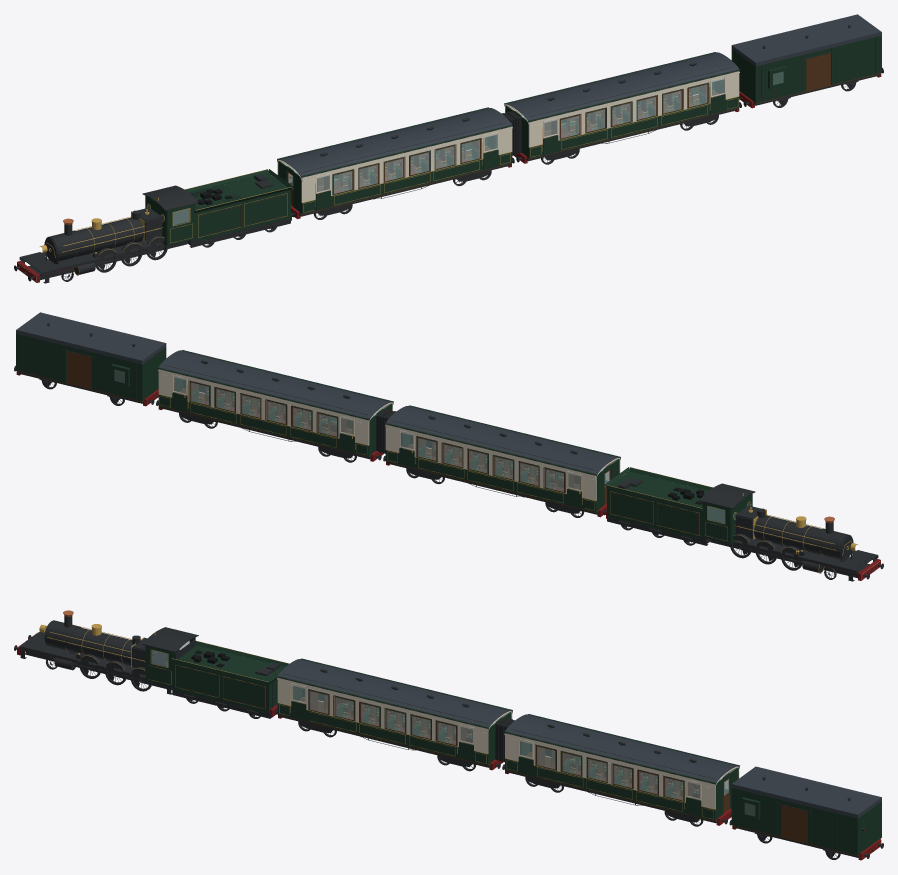
File: TrainSet.fbx
3 renders of one model, top to bottom at view 1: azimuth 30°, elevation 25°; view 2: azimuth 150°, elevation 25°; view 3: azimuth 330°, elevation 25°, orthographic.
Visible parts, largest first — view 1: C1_OuterArchedRoof, C2_OuterArchedRoof, Module_Luggage_Static_RailGreen, TenderBody, LuggageRoof, Module_Loco_Static_RailIron, Module_Coach1_Static_RailGreen, Module_Coach2_Static_RailGreen, Module_Loco_Beauty_RailIron, Module_Coach1_Static_RailIvory, Module_Coach2_Static_RailIvory, Module_Coach1_Static_RailGlass (+13 smaller); view 2: C1_OuterArchedRoof, C2_OuterArchedRoof, Module_Luggage_Static_RailGreen, TenderBody, LuggageRoof, Module_Loco_Static_RailIron, Module_Coach1_Static_RailGreen, Module_Coach2_Static_RailGreen, Module_Loco_Beauty_RailIron, Module_Coach1_Static_RailIvory, Module_Coach2_Static_RailIvory, Module_Coach1_Static_RailGlass (+13 smaller); view 3: Module_Luggage_Static_RailGreen, C2_OuterArchedRoof, C1_OuterArchedRoof, TenderBody, LuggageRoof, Module_Coach2_Static_RailGreen, Module_Loco_Static_RailIron, Module_Coach1_Static_RailGreen, Module_Loco_Beauty_RailIron, Module_Coach2_Static_RailIvory, Module_Coach1_Static_RailIvory, Module_Coach2_Static_RailGlass (+13 smaller).
Part boxes in pixels (bbox=[...]): C1_OuterArchedRoof: bbox=[277, 108, 512, 178]; C2_OuterArchedRoof: bbox=[504, 52, 739, 123]; Module_Luggage_Static_RailGreen: bbox=[731, 35, 881, 103]; TenderBody: bbox=[173, 173, 290, 241]; LuggageRoof: bbox=[731, 14, 881, 66]; Module_Loco_Static_RailIron: bbox=[14, 210, 190, 281]; Module_Coach1_Static_RailGreen: bbox=[277, 107, 512, 213]; Module_Coach2_Static_RailGreen: bbox=[504, 52, 739, 158]; Module_Loco_Beauty_RailIron: bbox=[19, 185, 198, 283]; Module_Coach1_Static_RailIvory: bbox=[277, 126, 512, 202]; Module_Coach2_Static_RailIvory: bbox=[504, 71, 739, 147]; Module_Coach1_Static_RailGlass: bbox=[334, 140, 479, 193]; C1_OuterArchedRoof: bbox=[385, 406, 620, 476]; C2_OuterArchedRoof: bbox=[158, 350, 393, 421]; Module_Luggage_Static_RailGreen: bbox=[16, 333, 166, 401]; TenderBody: bbox=[607, 471, 724, 539]; LuggageRoof: bbox=[16, 312, 166, 364]; Module_Loco_Static_RailIron: bbox=[707, 508, 883, 579]; Module_Coach1_Static_RailGreen: bbox=[385, 405, 620, 511]; Module_Coach2_Static_RailGreen: bbox=[158, 350, 393, 456]; Module_Loco_Beauty_RailIron: bbox=[699, 483, 878, 581]; Module_Coach1_Static_RailIvory: bbox=[385, 424, 620, 500]; Module_Coach2_Static_RailIvory: bbox=[158, 369, 393, 445]; Module_Coach1_Static_RailGlass: bbox=[418, 438, 563, 491]; Module_Luggage_Static_RailGreen: bbox=[731, 787, 881, 855]; C2_OuterArchedRoof: bbox=[504, 714, 739, 785]; C1_OuterArchedRoof: bbox=[277, 659, 512, 729]; TenderBody: bbox=[172, 645, 284, 713]; LuggageRoof: bbox=[731, 766, 881, 818]; Module_Coach2_Static_RailGreen: bbox=[504, 714, 740, 820]; Module_Loco_Static_RailIron: bbox=[14, 616, 172, 688]; Module_Coach1_Static_RailGreen: bbox=[277, 658, 512, 765]; Module_Loco_Beauty_RailIron: bbox=[19, 627, 198, 694]; Module_Coach2_Static_RailIvory: bbox=[504, 733, 739, 809]; Module_Coach1_Static_RailIvory: bbox=[277, 677, 512, 753]; Module_Coach2_Static_RailGlass: bbox=[537, 746, 683, 800].
Bounding box in the file's own units: 6008 × 392 × 346.
